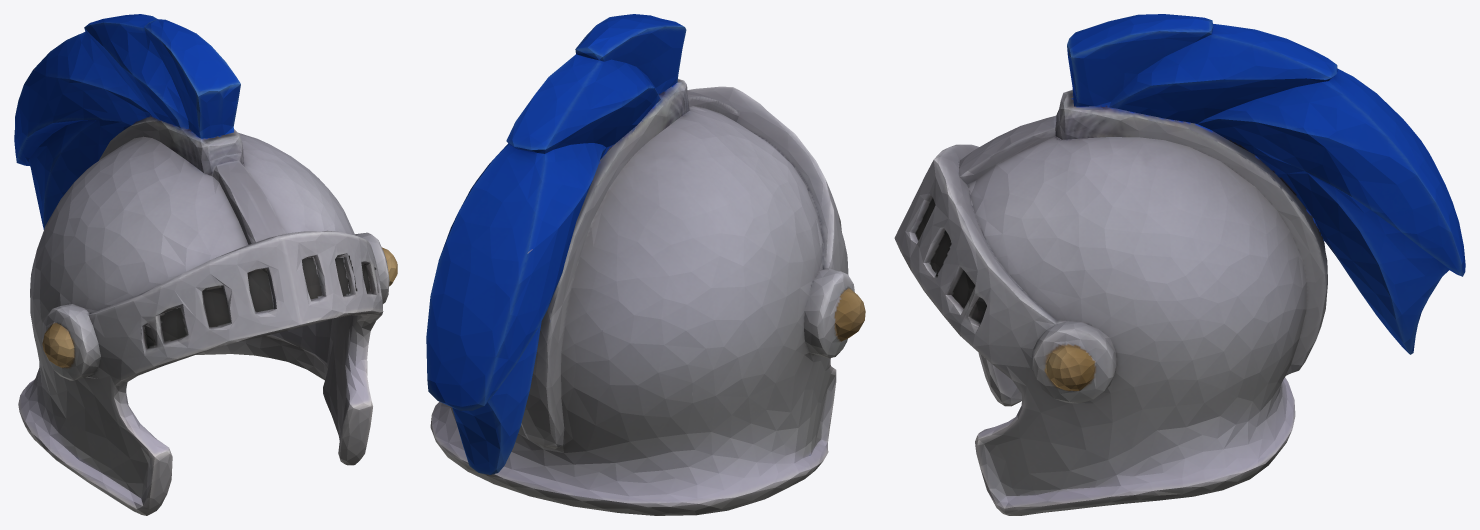
3 views of the same model, side by side, from view 1: azimuth 30°, elevation 25°; view 2: azimuth 150°, elevation 25°; view 3: azimuth 270°, elevation 25° (orthographic). The views are drawn at different scales.
Size of the model in its own units: 0.7707 by 0.8542 by 1.
1 material, 1 textured.
